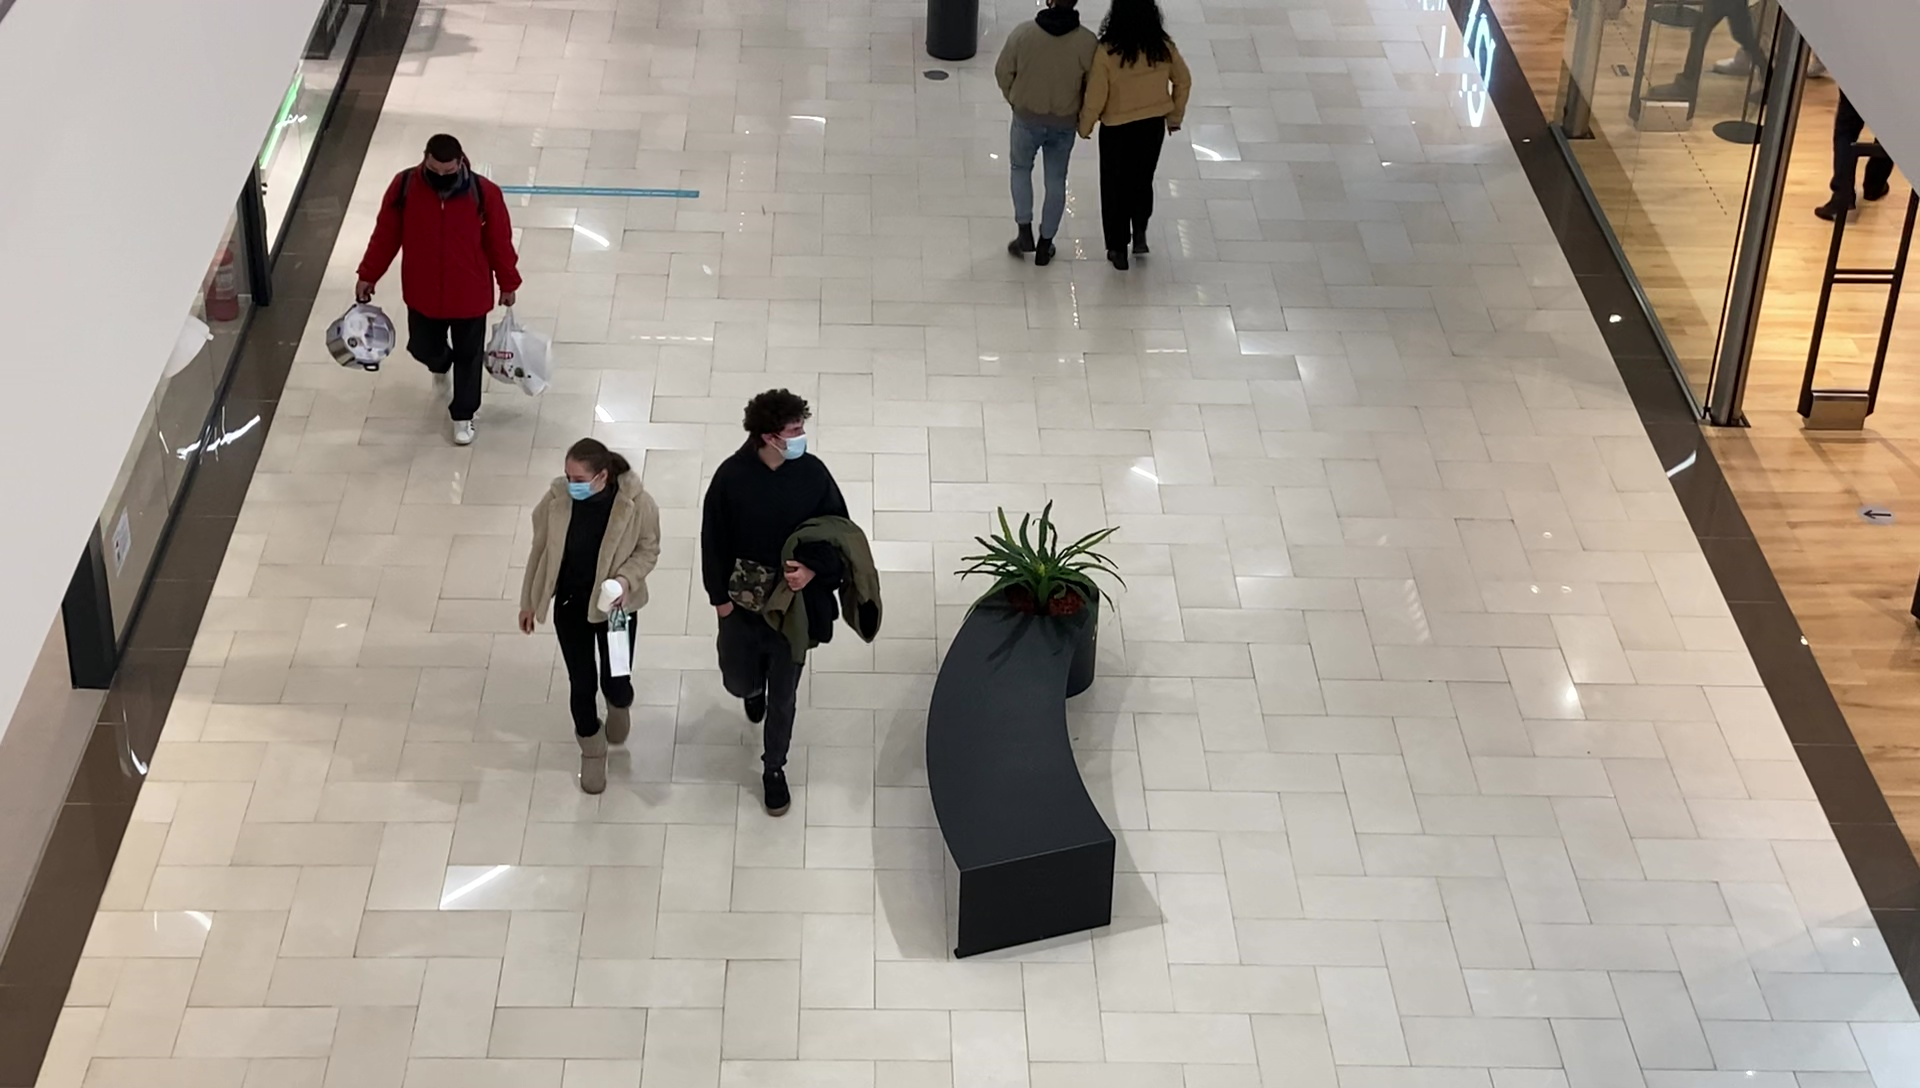person: (701, 390, 882, 815), (518, 437, 664, 798), (354, 135, 521, 448), (1095, 1, 1192, 273), (998, 1, 1094, 268)
